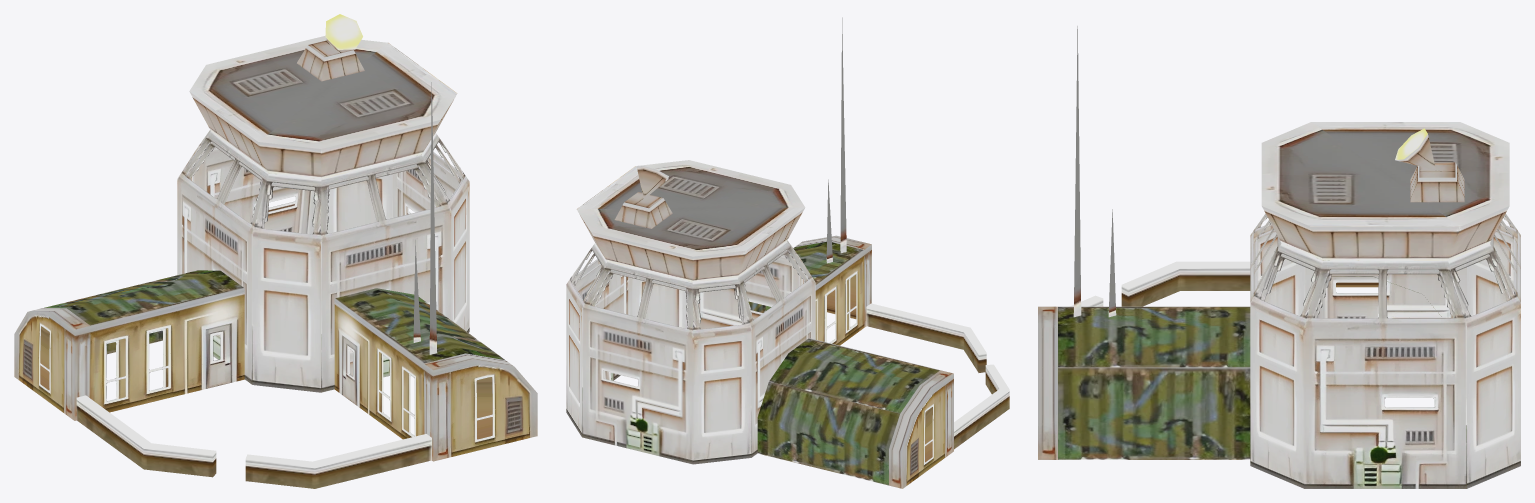
The model's file is l_spotlightcontrol_hdtex.glb.
The picture shows the model from 3 angles, left to right: view 1: azimuth 30°, elevation 25°; view 2: azimuth 150°, elevation 25°; view 3: azimuth 270°, elevation 25°; orthographic projection. The views are drawn at different scales.
Parts seen in each view (by area): view 1: L_SpotlightControl, LitWin_Spotcon, LOS_Ant1, light; view 2: L_SpotlightControl, LitWin_Spotcon, LOS_Ant1, light; view 3: L_SpotlightControl, LitWin_Spotcon, LOS_Ant1, light.
Boxes of the visible parts, bbox=[...] form: L_SpotlightControl: bbox=[14, 36, 537, 488]; LitWin_Spotcon: bbox=[40, 141, 492, 439]; LOS_Ant1: bbox=[413, 82, 437, 354]; light: bbox=[325, 14, 362, 49]; L_SpotlightControl: bbox=[566, 160, 1009, 488]; LitWin_Spotcon: bbox=[572, 250, 932, 462]; LOS_Ant1: bbox=[826, 17, 846, 263]; light: bbox=[637, 166, 668, 199]; L_SpotlightControl: bbox=[1038, 122, 1520, 488]; LitWin_Spotcon: bbox=[1254, 220, 1516, 406]; LOS_Ant1: bbox=[1073, 26, 1116, 317]; light: bbox=[1395, 128, 1435, 169].
Size of the model in its own units: 17.83 by 16.31 by 17.85.
1 material, 1 textured.
